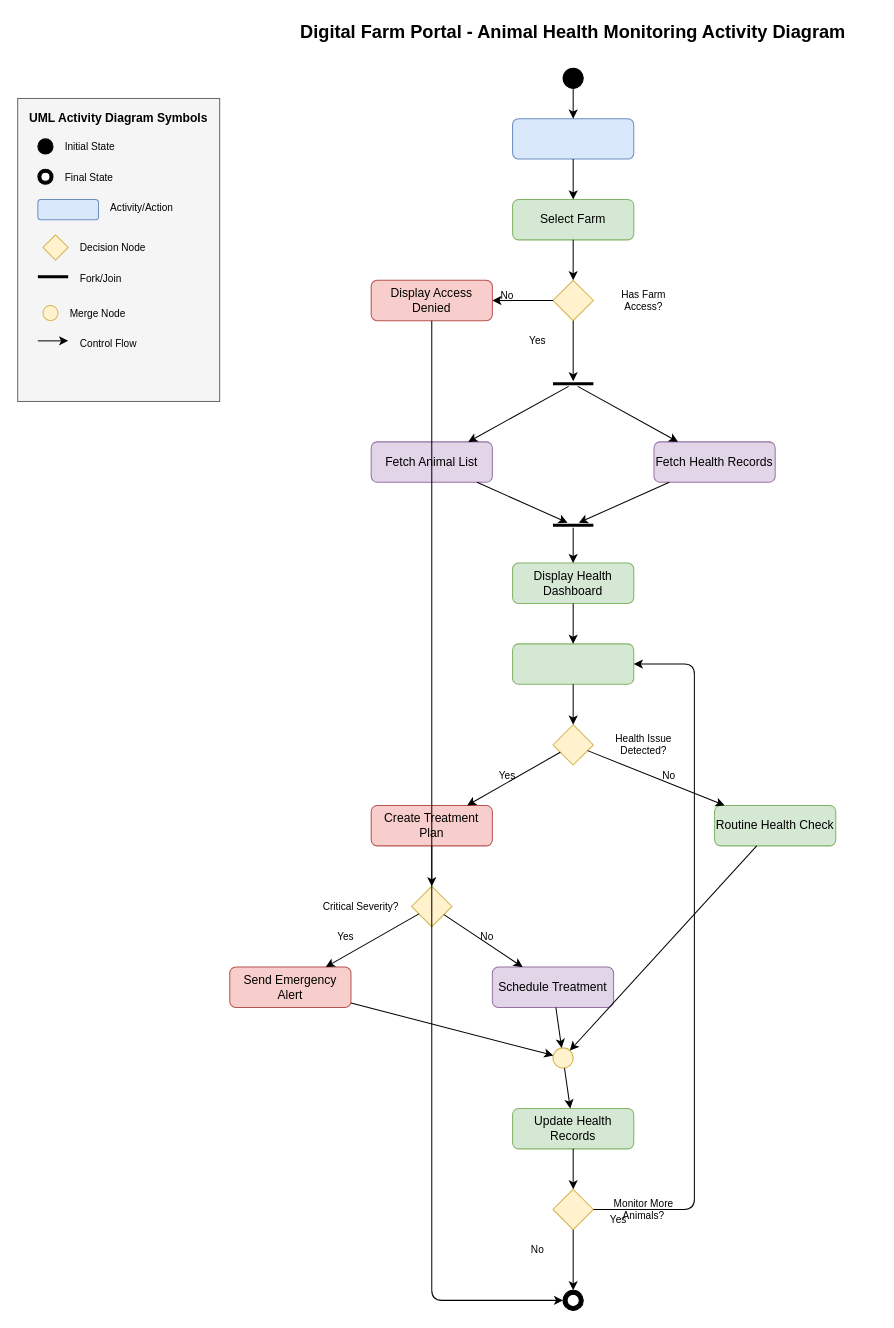
The diagram is 894 pixels wide and 1328 high, and some of its shapes have lost their labels. Here are the shapes that lost their labels. From the top down, the centre of each, then its label:
At point (573, 138): "User Login".
At point (67, 209): "Activity".
At point (573, 663): "Select Animal".
